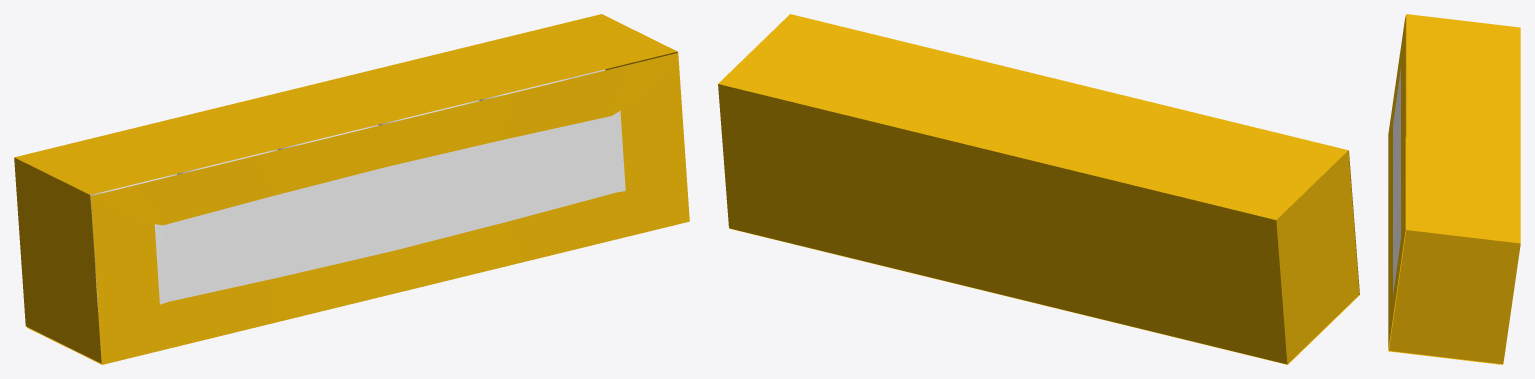
Rendered from caja1.gltf.
3 views of the same model, side by side, from view 1: azimuth 30°, elevation 25°; view 2: azimuth 150°, elevation 25°; view 3: azimuth 270°, elevation 25° (orthographic). The views are drawn at different scales.
Parts seen in each view (by area): view 1: Cube.003, Cube, Plane; view 2: Cube, Cube.003; view 3: Cube, Cube.003.
Part boxes in pixels (left/top/right/bottom): Cube.003: left=26, top=53, right=689, bottom=364; Cube: left=14, top=14, right=677, bottom=363; Plane: left=90, top=77, right=574, bottom=285; Cube: left=718, top=14, right=1359, bottom=364; Cube.003: left=729, top=151, right=1359, bottom=364; Cube: left=1389, top=14, right=1520, bottom=364; Cube.003: left=1388, top=16, right=1502, bottom=364.
Bounding box in the file's own units: 4.87 × 1.42 × 1.26.
